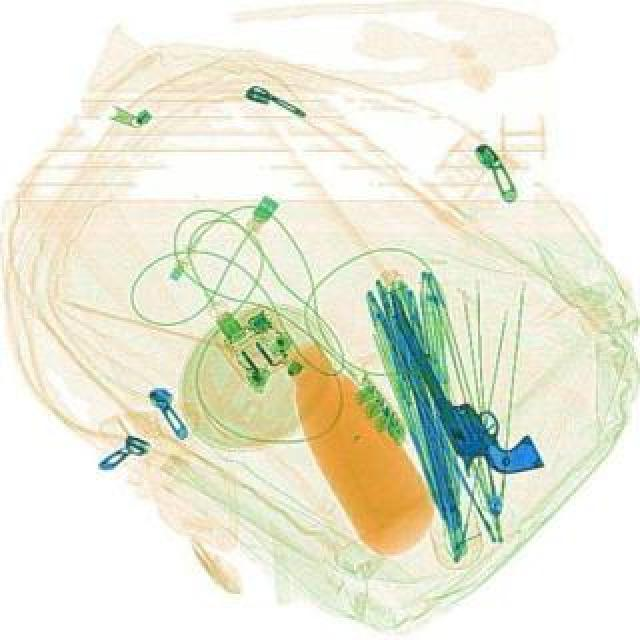gun: (392, 290, 548, 496)
